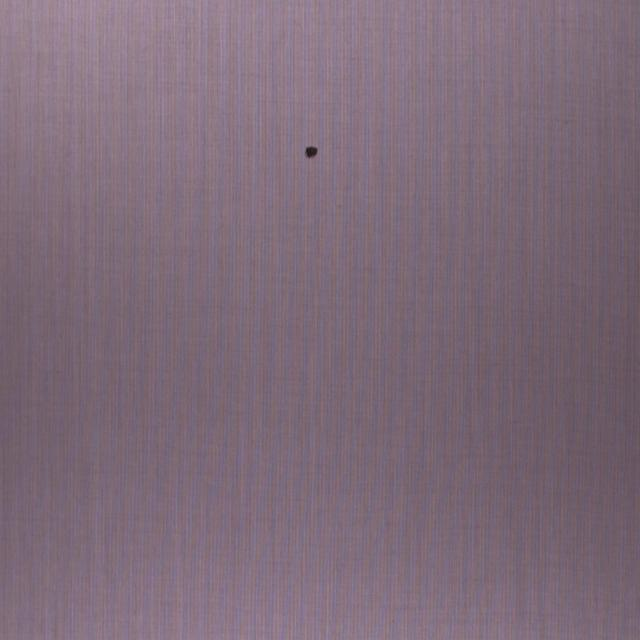dirty: (305, 147, 317, 158)
